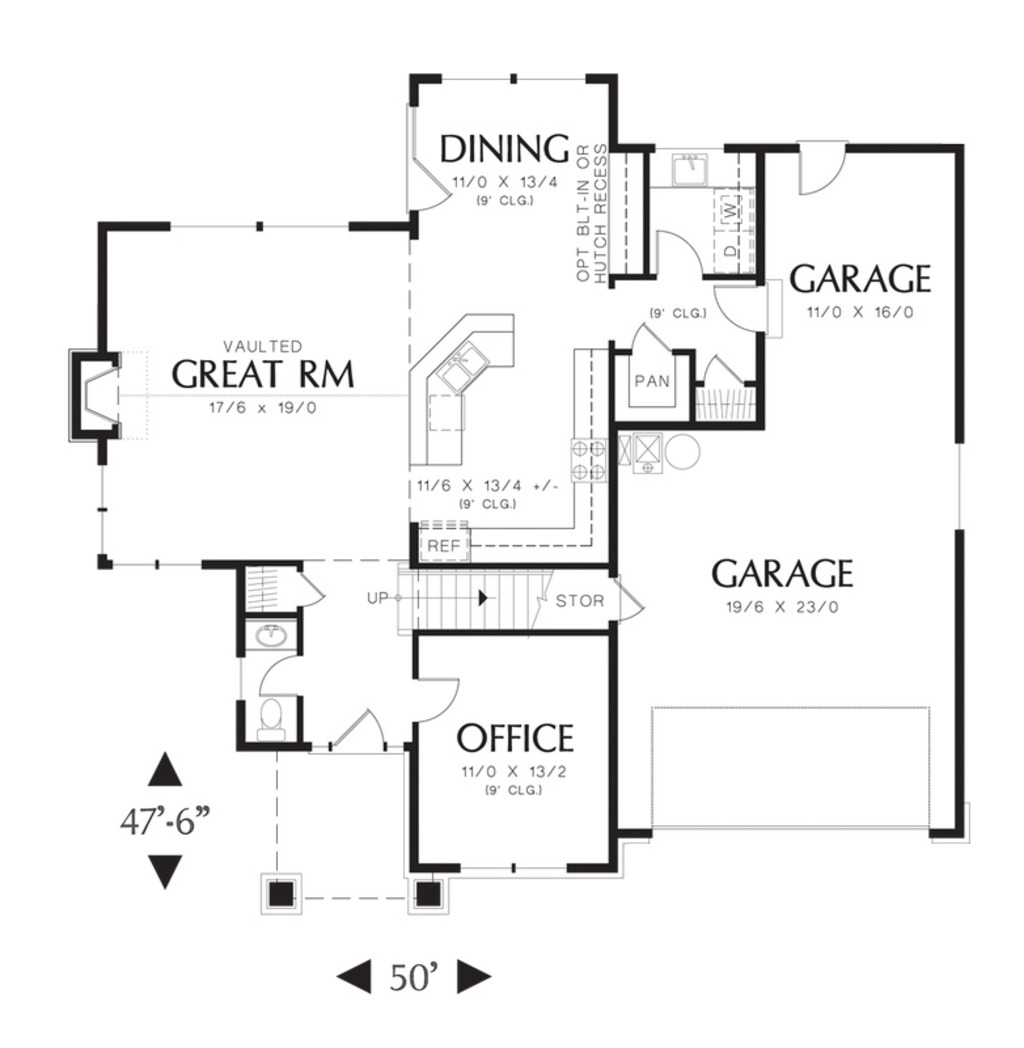door: (779, 130, 866, 211), (707, 274, 804, 344), (634, 214, 709, 282), (595, 573, 664, 631), (309, 706, 390, 754), (688, 341, 753, 390), (614, 314, 677, 361), (410, 677, 471, 725), (407, 157, 460, 212), (291, 565, 333, 611), (258, 658, 310, 695)
large_sink: (242, 692, 298, 746)
small_sink: (222, 617, 307, 652)
stairs: (396, 558, 596, 635)
twin_sink: (434, 339, 498, 398)
window: (155, 211, 353, 239), (934, 435, 982, 528), (439, 65, 588, 92), (112, 550, 196, 566)
